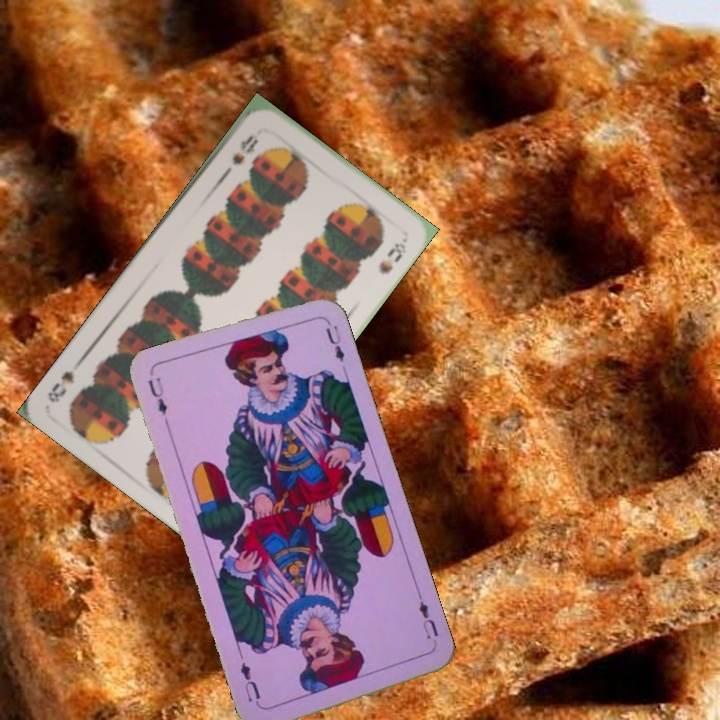EU: (414, 590, 441, 642), (143, 373, 170, 418)
S8: (227, 130, 261, 168)
